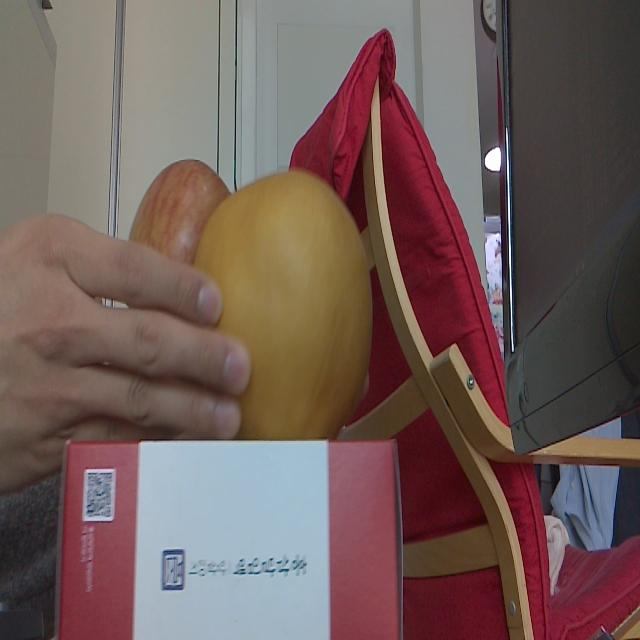apple: (124, 159, 232, 271)
pear: (196, 172, 372, 435)
